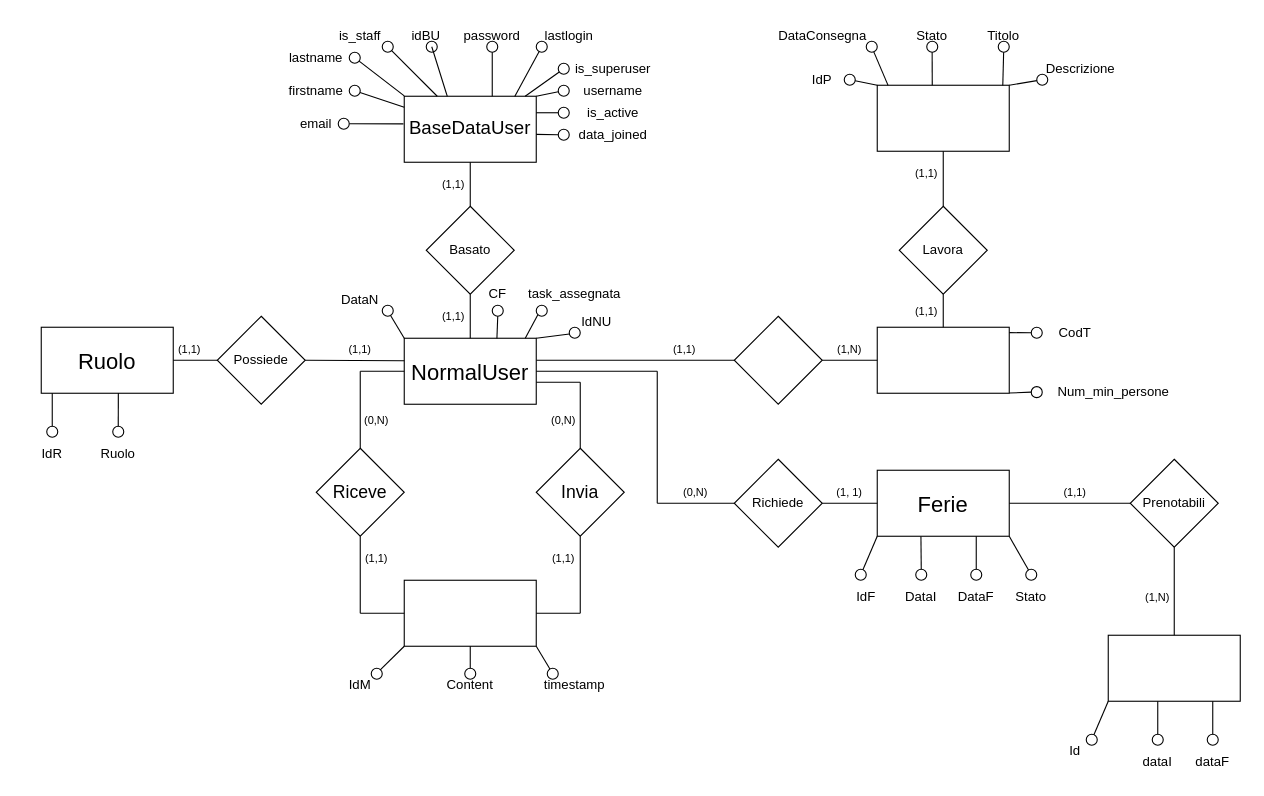
Image size: 1264x796. Some labels were removed from this diagram. Here are the shapes that lost their labels. From the top down, the centre of each, then its label:
(x=942, y=117): Progetto
(x=777, y=359): Componente
(x=942, y=359): Teams
(x=469, y=612): Messaggio
(x=1173, y=667): Periodo
